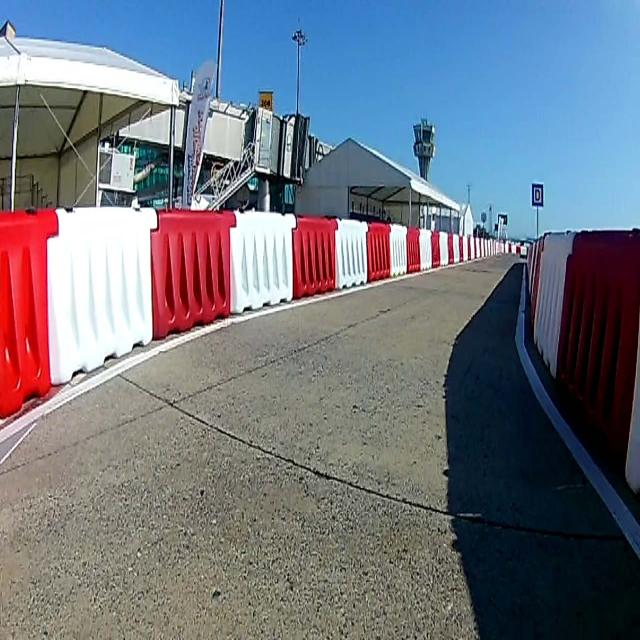durak: (530, 181, 544, 208)
